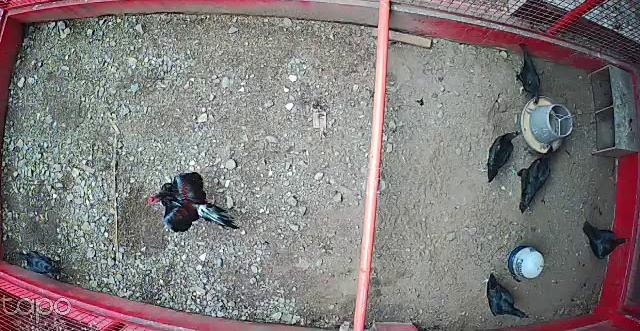Chicken: (511, 142, 555, 217), (478, 125, 523, 185), (481, 271, 531, 320), (580, 219, 630, 260), (509, 43, 542, 104), (11, 244, 65, 278)
Drinker: (507, 245, 546, 279)
Feeder: (519, 96, 574, 153)
Leg_Band_Green: (511, 168, 518, 175)
Rooster: (147, 170, 248, 233)
